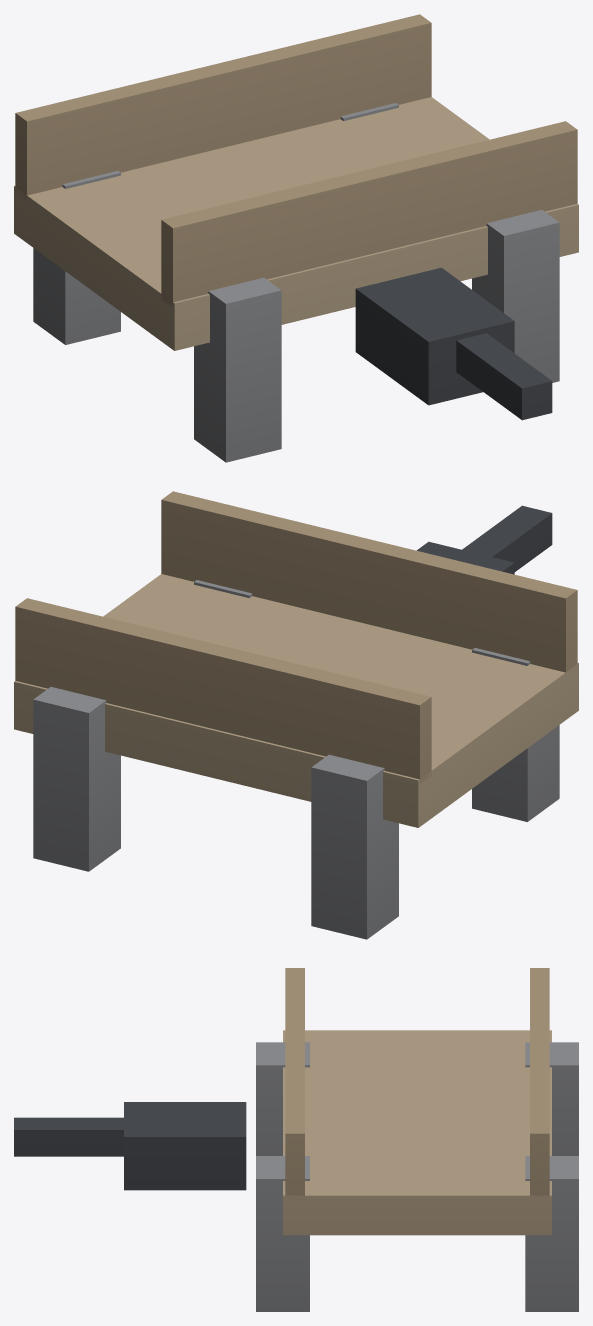
Rendered from cart.glb.
The picture shows the model from 3 angles, top to bottom: view 1: azimuth 30°, elevation 25°; view 2: azimuth 150°, elevation 25°; view 3: azimuth 270°, elevation 25°; orthographic projection. The views are drawn at different scales.
Parts seen in each view (by area): view 1: root; view 2: root; view 3: root.
Part boxes in pixels (x1,y1,x2,y2): root: (14, 14, 578, 462); root: (14, 491, 578, 939); root: (14, 968, 578, 1311).
Bounding box in the file's own units: 1.6 × 0.87 × 2.31.
